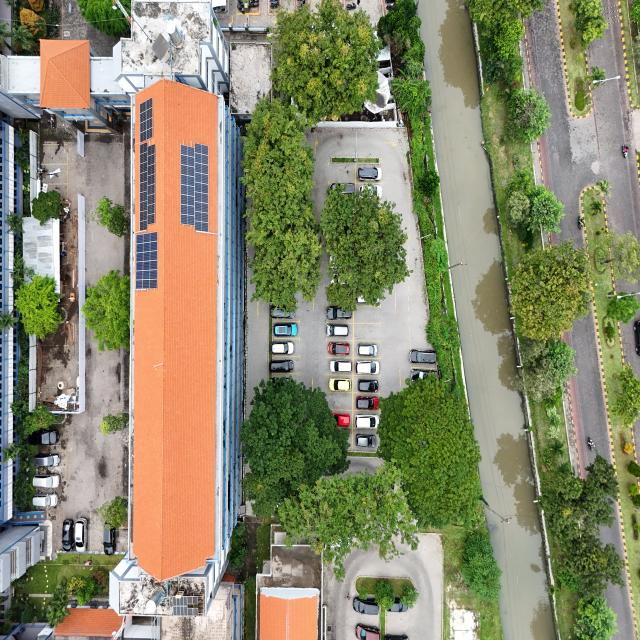Tree: (85, 268, 140, 349), (16, 276, 62, 338), (31, 190, 64, 222), (100, 410, 138, 432), (105, 497, 132, 527), (418, 168, 441, 200), (507, 189, 527, 223), (375, 575, 394, 610), (400, 581, 418, 609), (360, 589, 368, 599)
